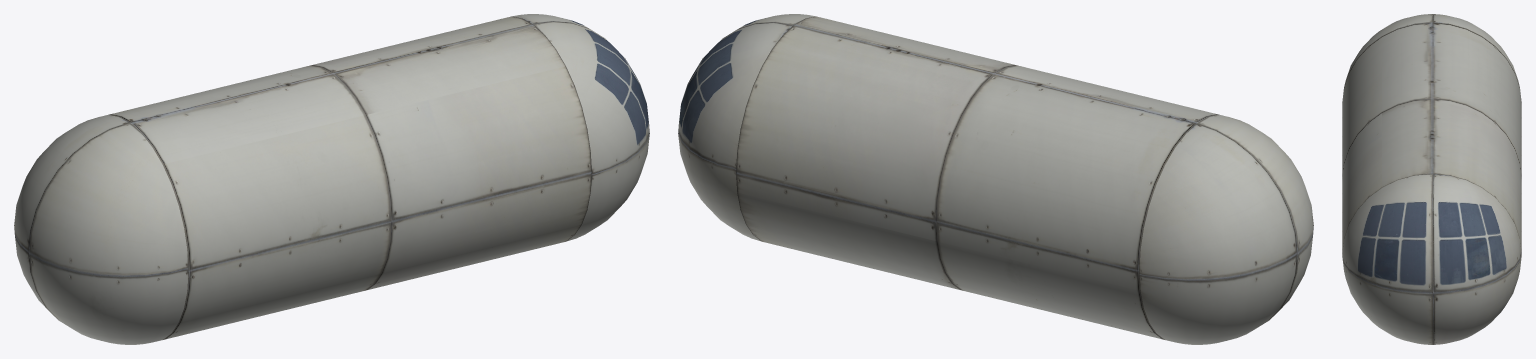
Rendered from Ship.fbx.
3 renders of one model, left to right at view 1: azimuth 30°, elevation 25°; view 2: azimuth 150°, elevation 25°; view 3: azimuth 270°, elevation 25°, orthographic. The views are drawn at different scales.
Parts seen in each view (by area): view 1: Sphere; view 2: Sphere; view 3: Sphere.
Boxes of the visible parts, <box> form: Sphere: <box>14,14,649,344</box>; Sphere: <box>678,14,1313,344</box>; Sphere: <box>1342,14,1521,344</box>.
Size of the model in its own units: 600 by 200 by 200.
Materials: 1 (1 with a texture image).
